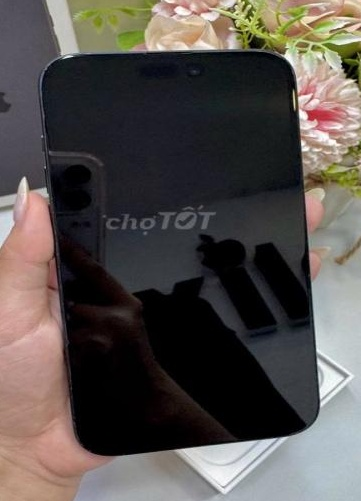scratch: (49, 284, 78, 426), (141, 47, 200, 62)
